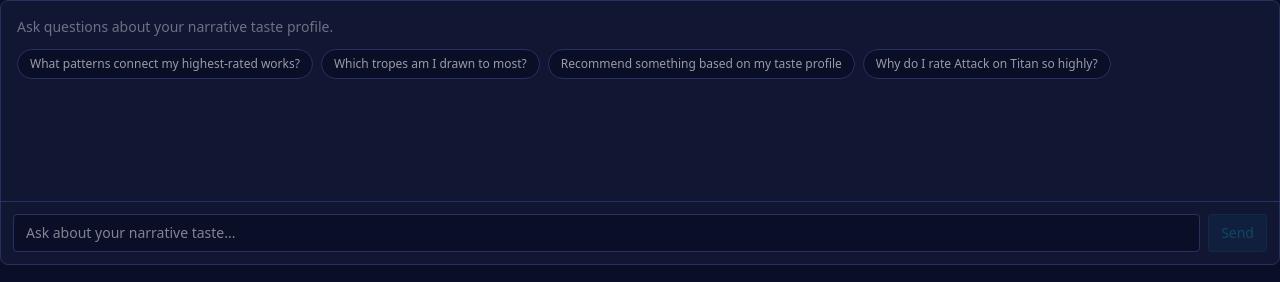
Test: ChatPanel › clicking example prompt fills the input
Click the button "Which tropes am I drawn to most?". click: x=430, y=64
box: x1=321 y1=49 x2=540 y2=79
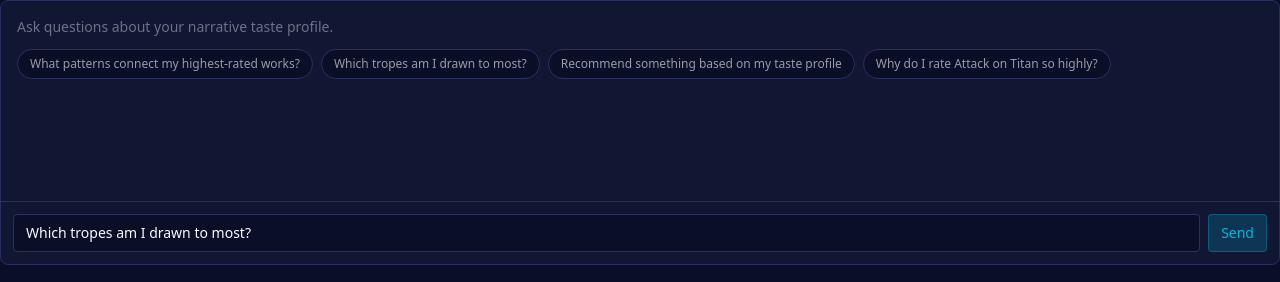
Check: the field with placeholder "Ask about your narrative taste..." holds "Which tropes am I drawn to most?", box x1=13 y1=214 x2=1200 y2=252
